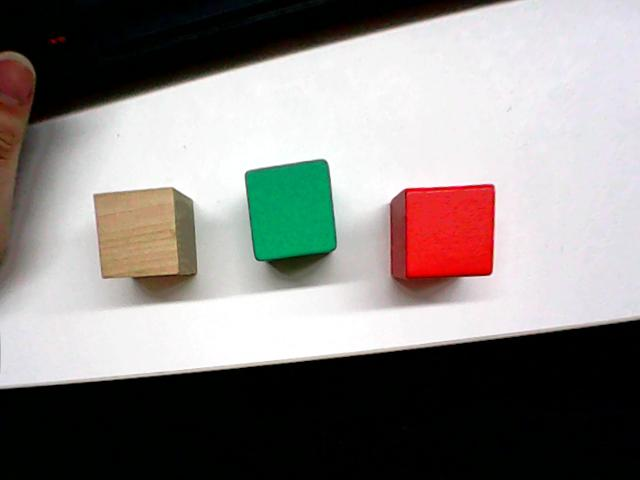green_box: (241, 155, 339, 264)
raw_box: (90, 183, 199, 281)
red_box: (386, 179, 499, 283)
